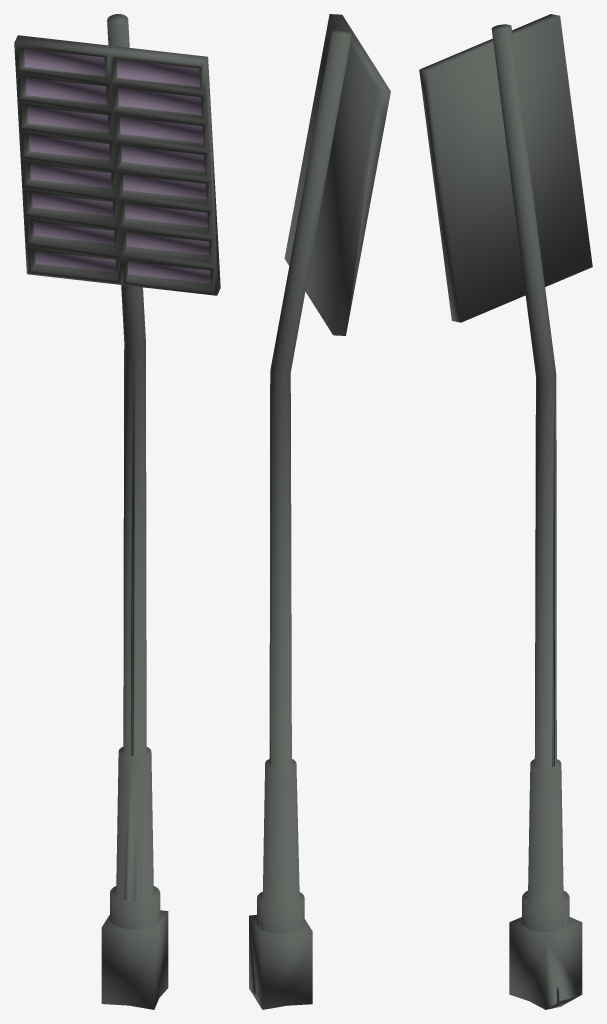
File: stadium_light.dae
The picture shows the model from 3 angles, left to right: view 1: azimuth 30°, elevation 25°; view 2: azimuth 150°, elevation 25°; view 3: azimuth 270°, elevation 25°; orthographic projection. The views are drawn at different scales.
Parts seen in each view (by area): view 1: Fled Lights_Metal_0, Fled Lights_Lights_0; view 2: Fled Lights_Metal_0; view 3: Fled Lights_Metal_0.
Boxes of the visible parts, box(x1,y1,x2,y2) form: Fled Lights_Metal_0: box(14, 14, 220, 1009); Fled Lights_Lights_0: box(24, 48, 210, 283); Fled Lights_Metal_0: box(249, 14, 390, 1009); Fled Lights_Metal_0: box(419, 14, 592, 1009).
Size of the model in its own units: 1.93 by 1.93 by 11.73.
